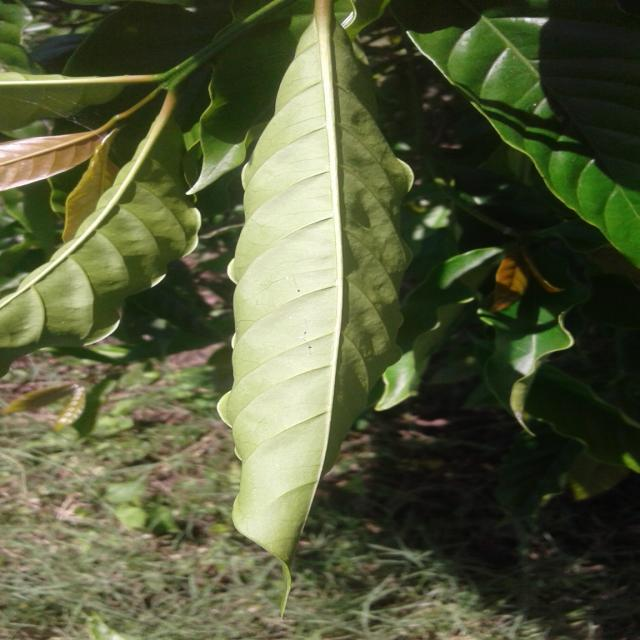Sanas: (218, 0, 430, 568)
